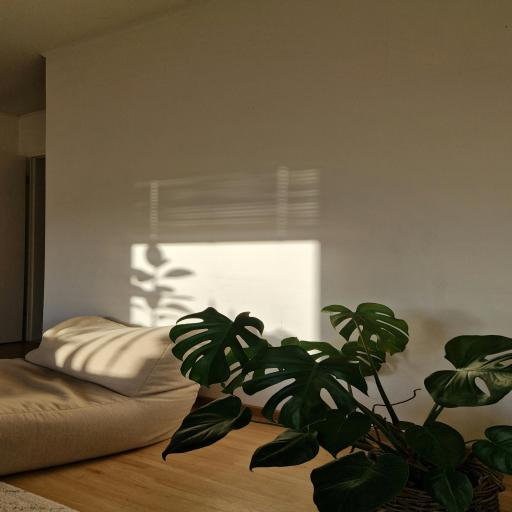sofa: (0, 315, 200, 474)
wall: (41, 0, 511, 442)
